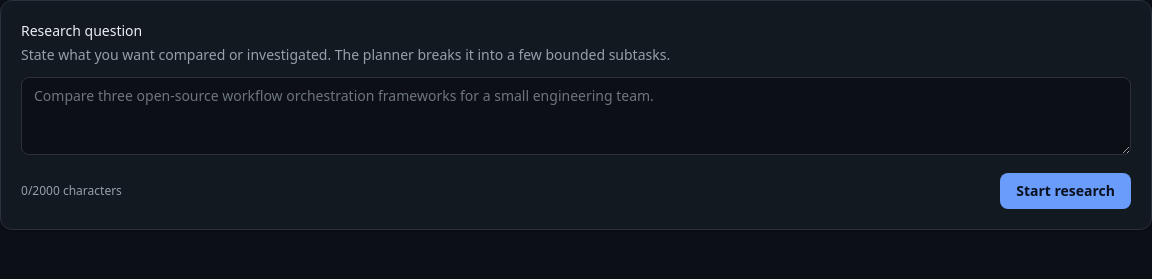
TaskCreateForm › rejects a too-short question before making a request
Type "short" into the text box labelled "Research question". click: point(576, 116)
box: [21,77,1131,155]
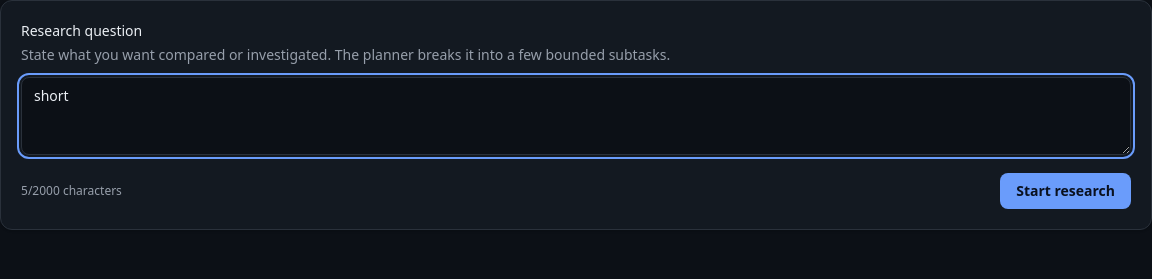
Click the button "Start research". click: point(1066, 191)
box: [1000,173,1131,209]
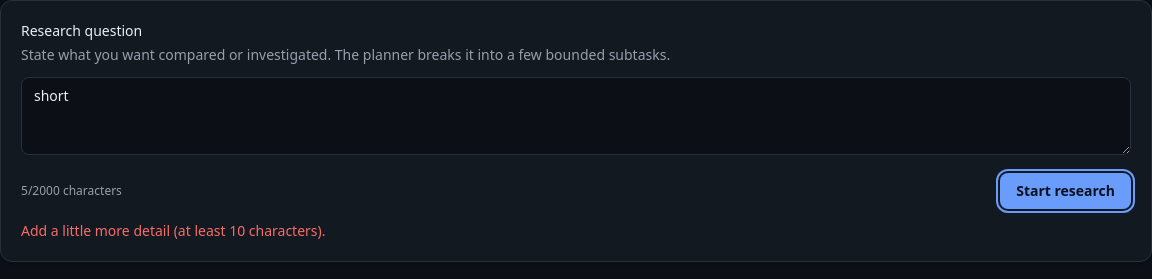
Now the message "Add a little more detail (at least 10 characters)." is shown, box [21,221,326,240]
